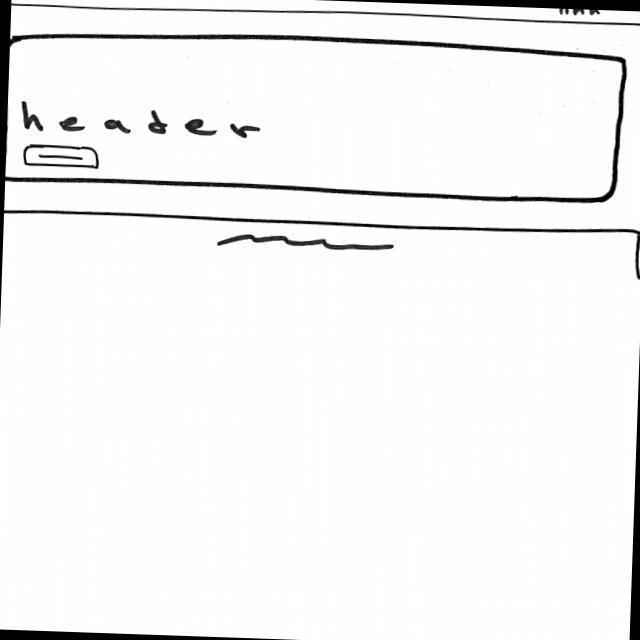container: (6, 26, 629, 206), (12, 1, 640, 30)
icon-button: (19, 146, 103, 172)
label: (17, 100, 264, 143), (551, 9, 606, 17)
text: (217, 233, 399, 256)
